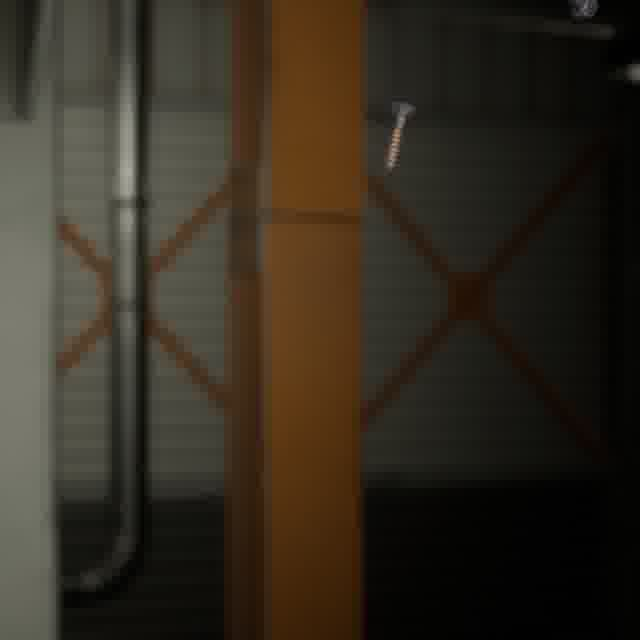bolt: (379, 97, 419, 175), (559, 0, 602, 27)
